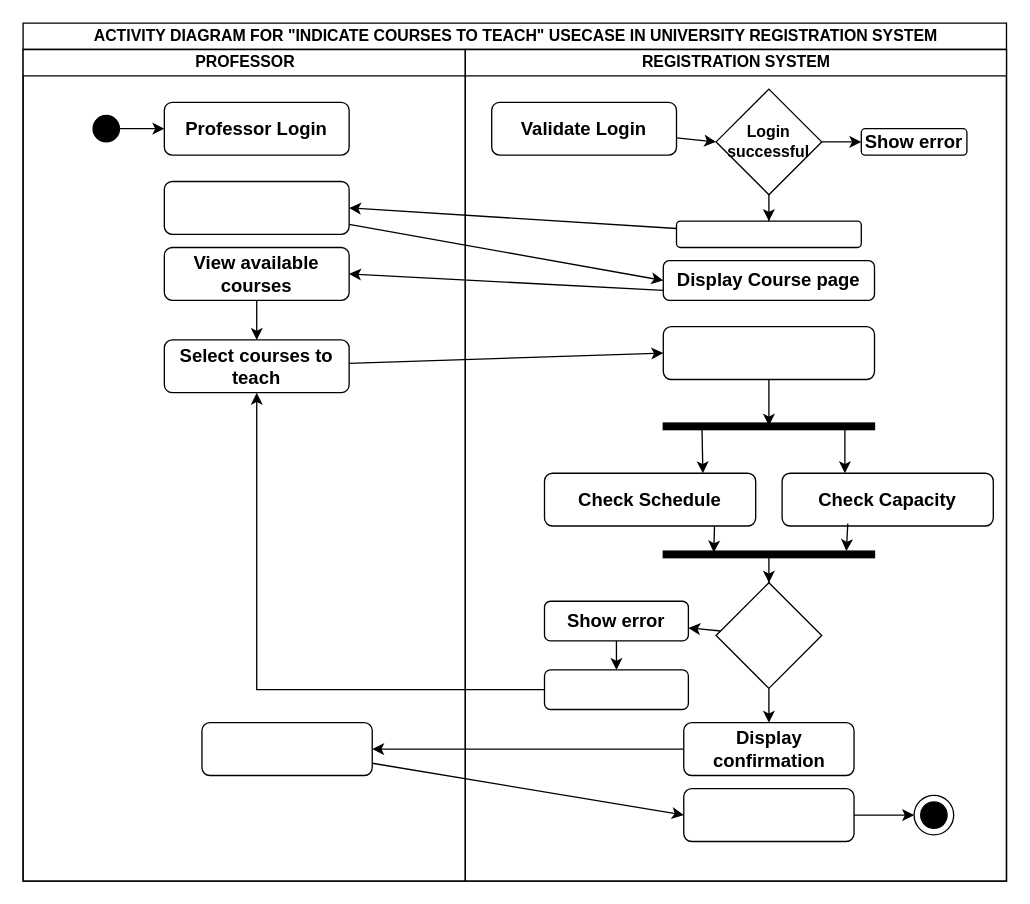
The diagram is 1030 pixels wide and 904 high, and some of its shapes have lost their labels. Here are the shapes that lost their labels. From the top down, the centre of each, then its label:
pixel 256 207: View Course Management
pixel 768 234: Display dashboard
pixel 768 352: Check course availability
pixel 768 634: Is course Valid ?
pixel 615 689: Select again
pixel 286 748: Confirm courses
pixel 768 814: Save selected course
